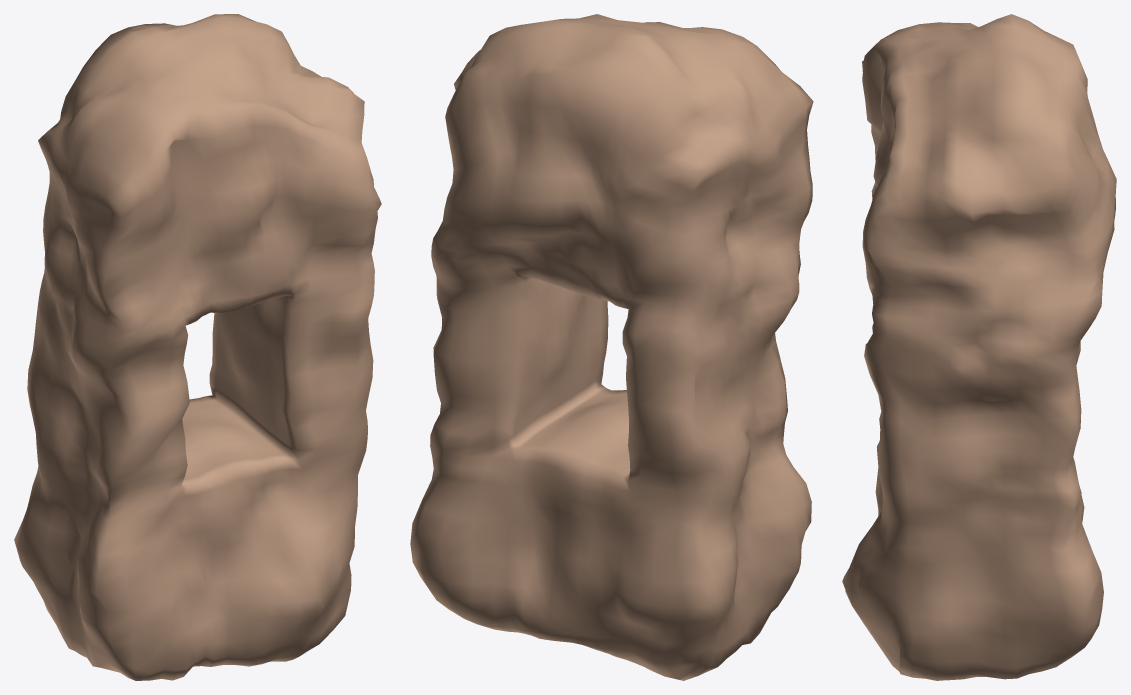
The model's file is Roca_Forat_Low.fbx.
3 renders of one model, left to right at view 1: azimuth 30°, elevation 25°; view 2: azimuth 150°, elevation 25°; view 3: azimuth 270°, elevation 25°, orthographic. The views are drawn at different scales.
Visible parts, largest first — view 1: Forat_low; view 2: Forat_low; view 3: Forat_low.
Part boxes in pixels (x1,y1,x2,y2): Forat_low: [14, 14, 381, 680]; Forat_low: [410, 14, 813, 680]; Forat_low: [842, 14, 1116, 680].
Bounding box in the file's own units: 119 × 94.92 × 233.
